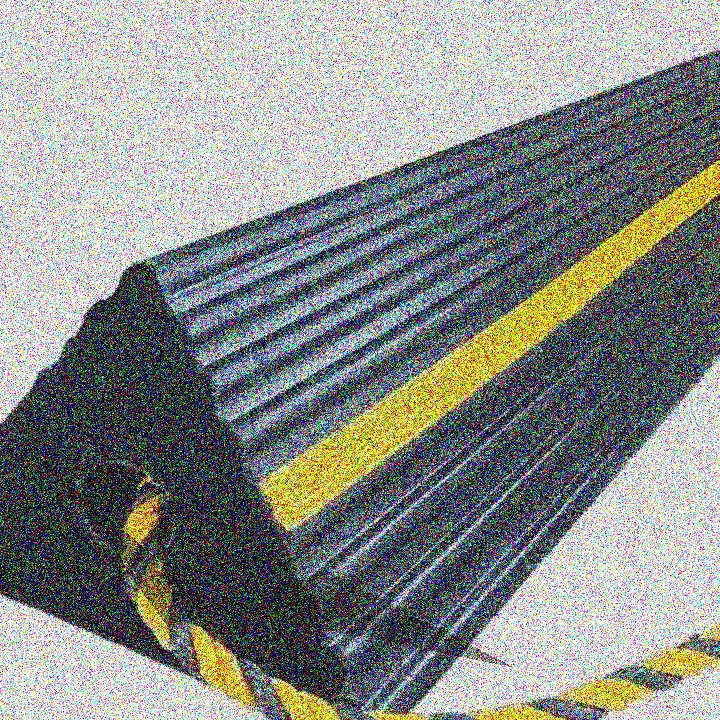chock: (0, 24, 720, 720)
